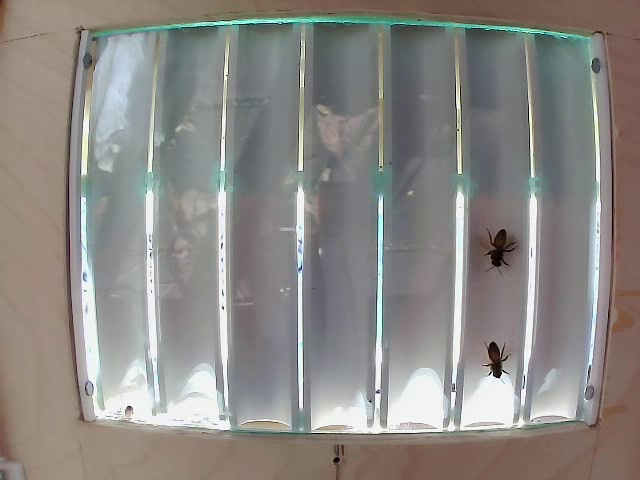bee: (478, 331, 518, 385), (488, 226, 519, 280)
